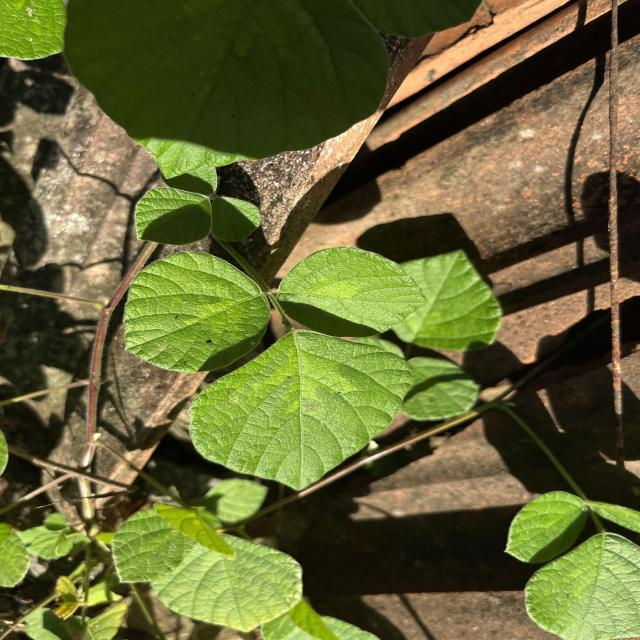Pseudarthria viscida: (120, 244, 430, 494)
